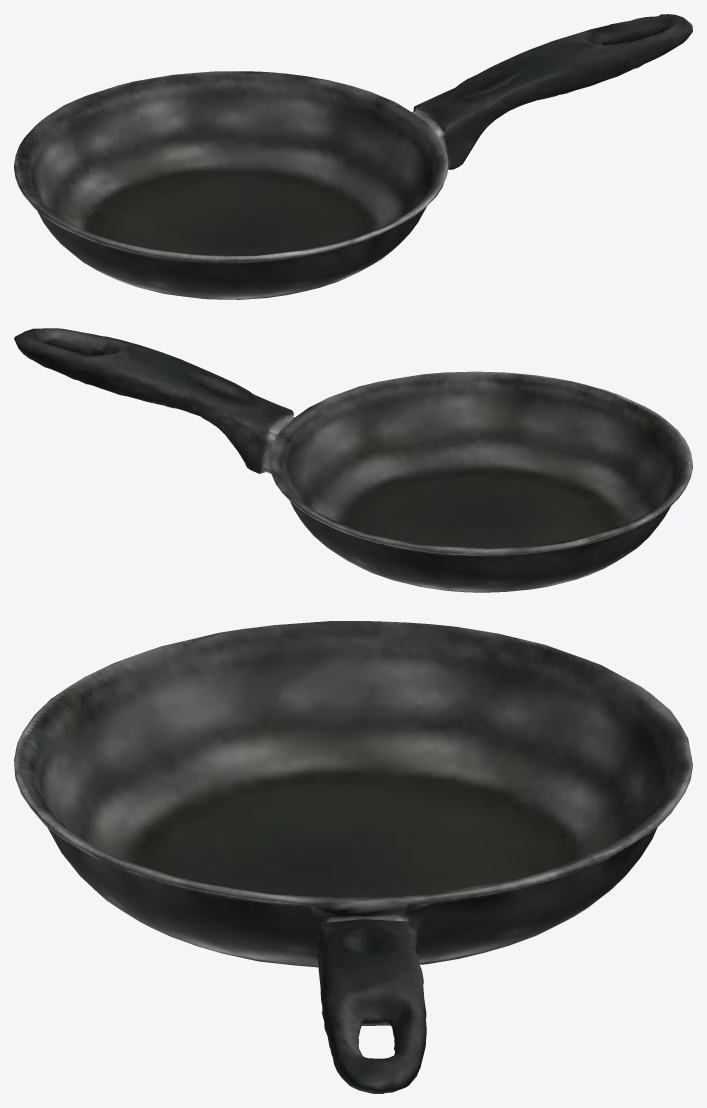
The model's file is Chefmate_8_Frypan-high.glb.
3 views of the same model, one above another, from view 1: azimuth 30°, elevation 25°; view 2: azimuth 150°, elevation 25°; view 3: azimuth 270°, elevation 25° (orthographic). The views are drawn at different scales.
Parts seen in each view (by area): view 1: Chefmate_8_Frypan; view 2: Chefmate_8_Frypan; view 3: Chefmate_8_Frypan.
Boxes of the visible parts, x1=… form: Chefmate_8_Frypan: x1=14, y1=14, x2=692, y2=299; Chefmate_8_Frypan: x1=14, y1=328, x2=692, y2=592; Chefmate_8_Frypan: x1=14, y1=621, x2=692, y2=1093.
Bounding box in the file's own units: 0.3558 × 0.055 × 0.2043.
1 material, 1 textured.
